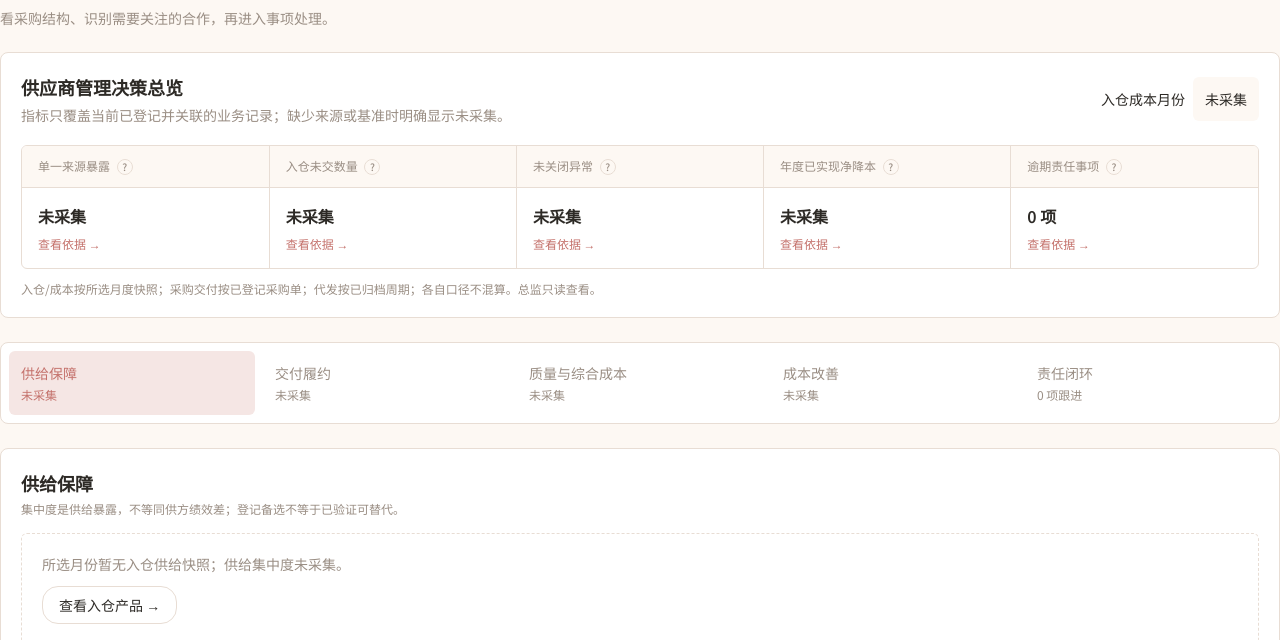
Scenario: states that a scoring scheme is not an imported native performance result
Click the tab "交付履约 未采集": (386, 383) [263,351,509,415]
(page scrolled)
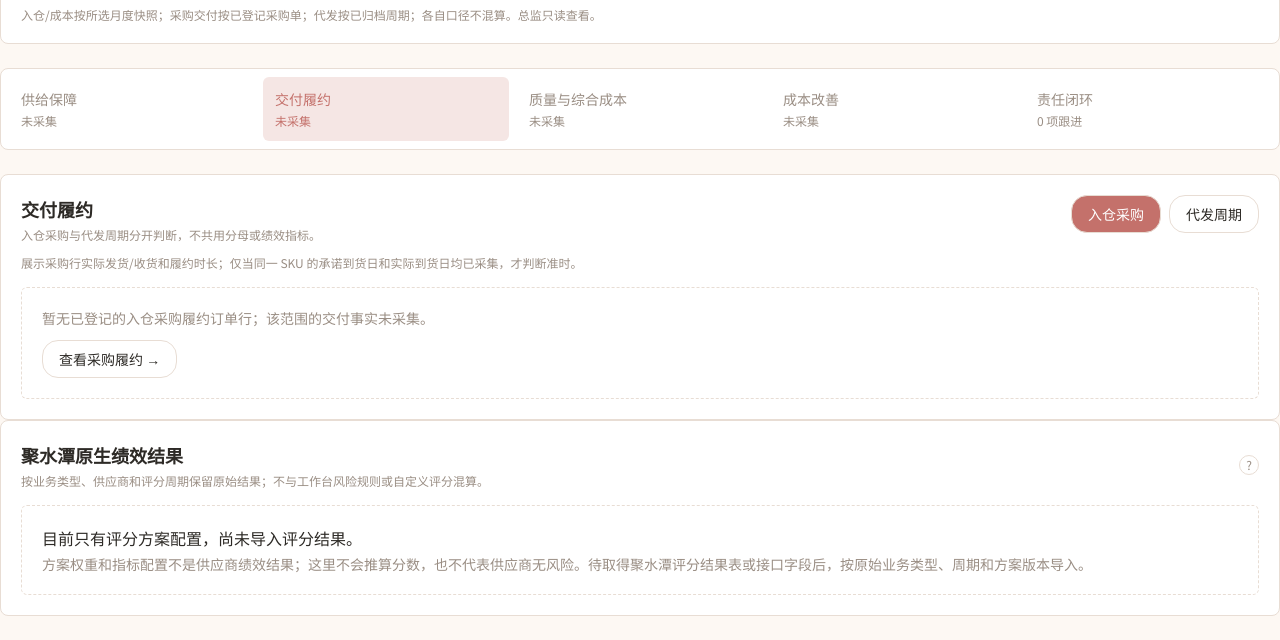
Result: the heading "聚水潭原生绩效结果" is shown at [21,442,183,468]
Result: the text "目前只有评分方案配置，尚未导入评分结果。" is shown at [42,526,362,550]
Result: the text "不代表供应商无风险" is shown at [42,554,1092,574]
